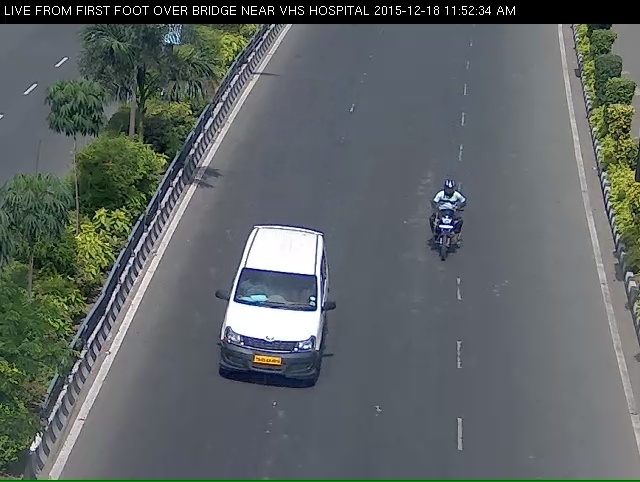Car: (207, 255, 325, 429)
Person: (421, 195, 471, 286)
